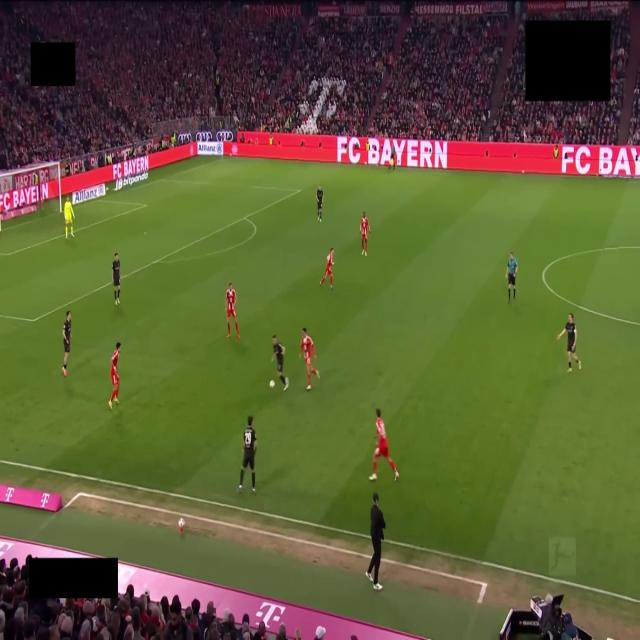ball: (270, 380, 274, 388)
player: (369, 409, 398, 480), (238, 416, 256, 493), (558, 314, 581, 372), (300, 328, 319, 390), (272, 335, 288, 391), (226, 283, 240, 338), (109, 343, 120, 408), (62, 311, 71, 376), (320, 248, 333, 289), (360, 212, 370, 255), (64, 197, 74, 239), (112, 253, 120, 304), (317, 186, 323, 222)
referee: (506, 252, 517, 301)
